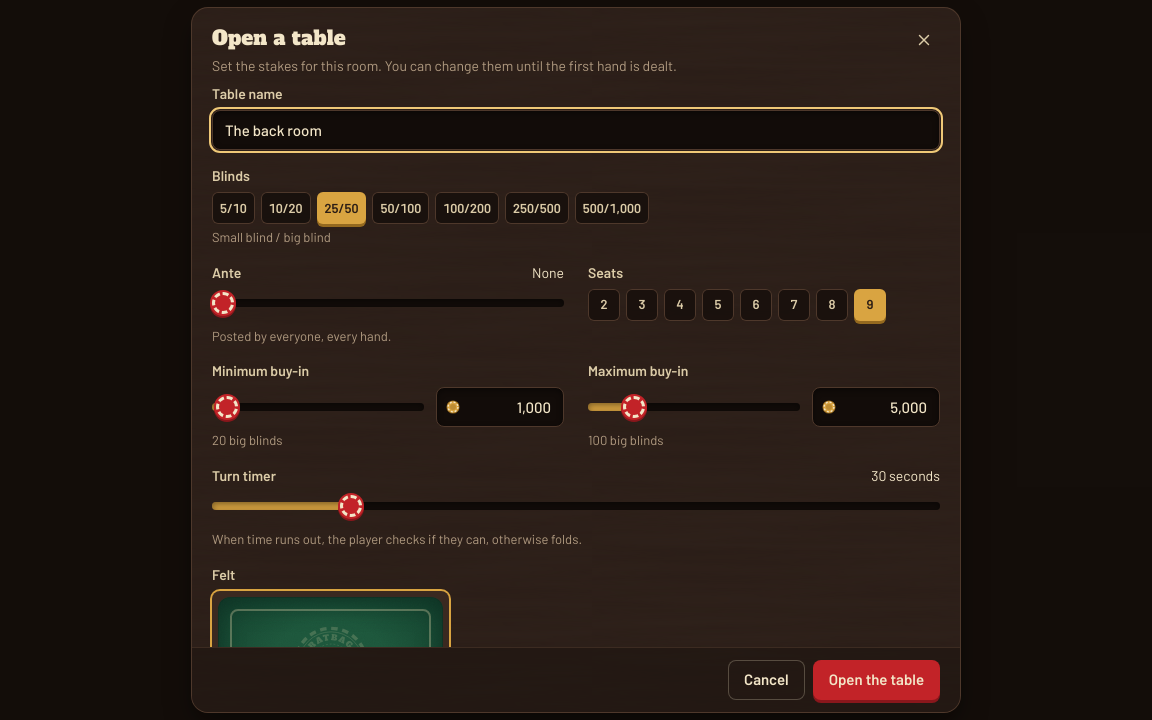
<OpenTableDialog> › shows field errors inline and does not submit
The width and height of the screenshot is (1152, 720).
Clear the field labelled "Table name": [576, 130] box left=212, top=110, right=940, bottom=150
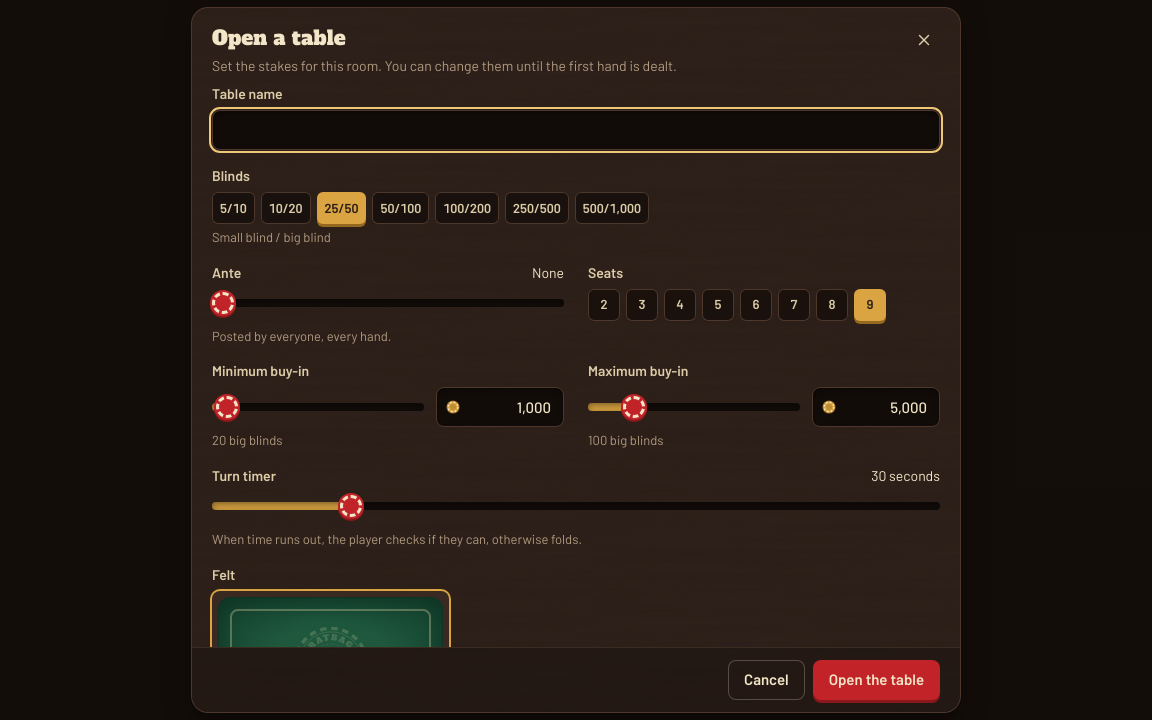
Click the button "Open the table": [876, 680] box left=813, top=660, right=940, bottom=700
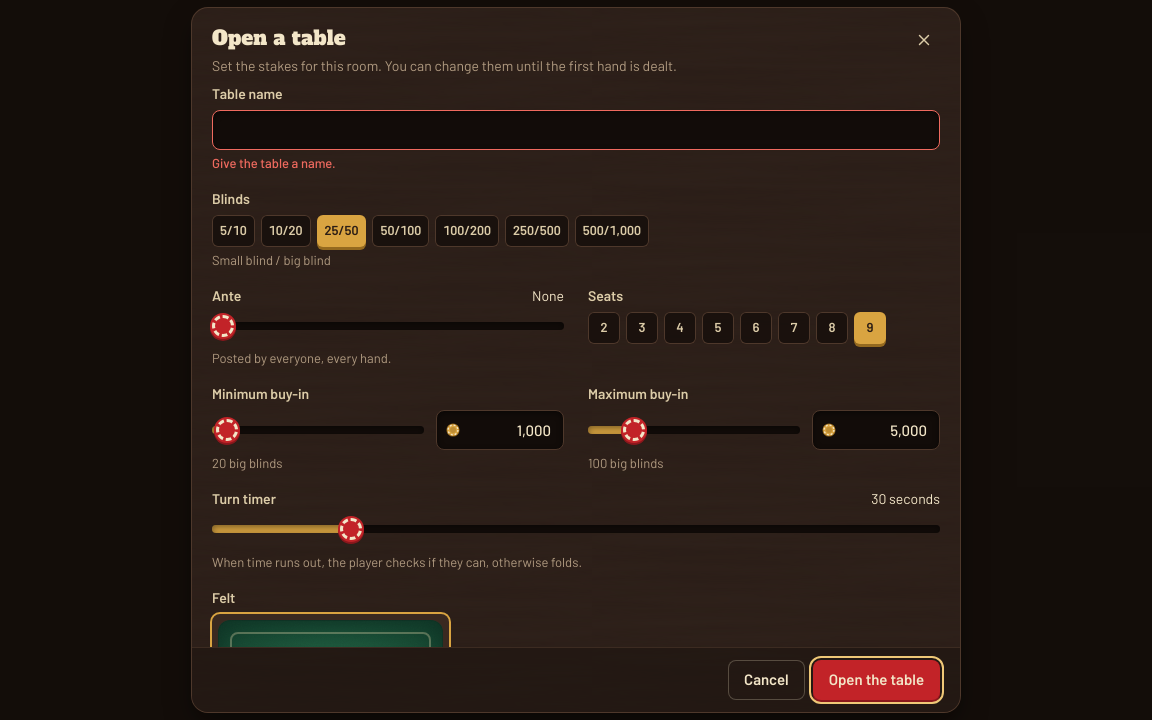
Result: the text "Give the table a name." is shown at left=212, top=155, right=336, bottom=171
